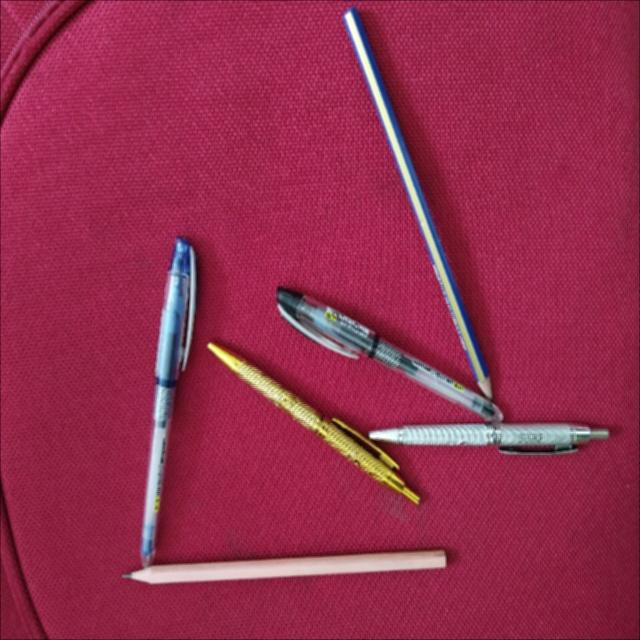pen: (277, 288, 502, 421), (141, 237, 195, 566)
pencil: (343, 8, 493, 398), (123, 550, 445, 583)
signature pen: (208, 343, 419, 503), (369, 423, 608, 453)
